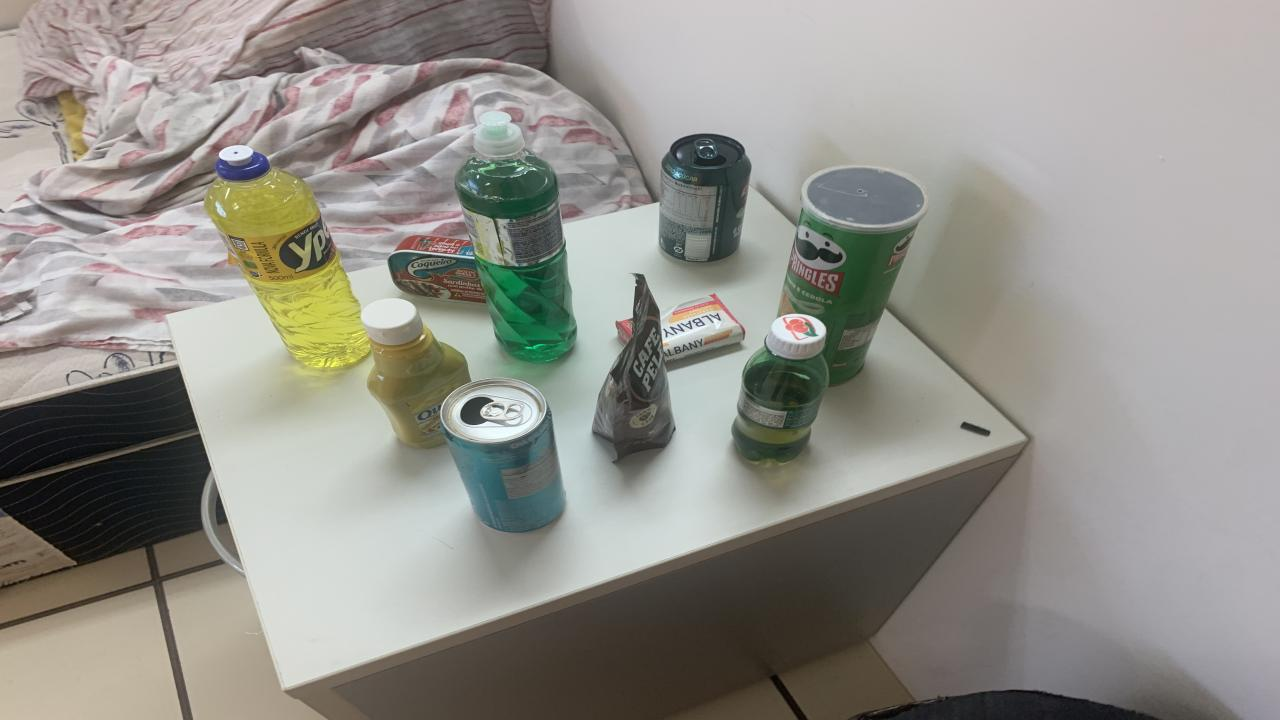Coffee-Pantry_Items: (592, 274, 675, 459)
Detergent-Cleanup_Items: (205, 144, 370, 368), (455, 111, 575, 362)
Guarana-Drinks: (732, 315, 830, 461)
Guarana_Can-Drinks: (660, 133, 752, 262)
Mustard-Pantry_Items: (360, 298, 470, 448)
Pringles-Snacks: (780, 167, 928, 384)
Soap-Cleanup_Items: (660, 294, 745, 362), (615, 319, 632, 343)
Tea-Drinks: (440, 377, 565, 532)
Tuna_Can-Pantry_Items: (388, 236, 485, 304)
